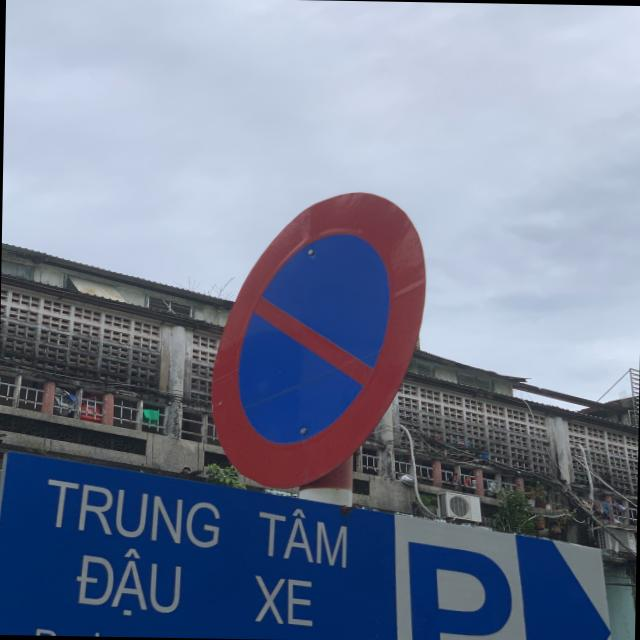Cam_Dau_Xe: (208, 188, 428, 492)
